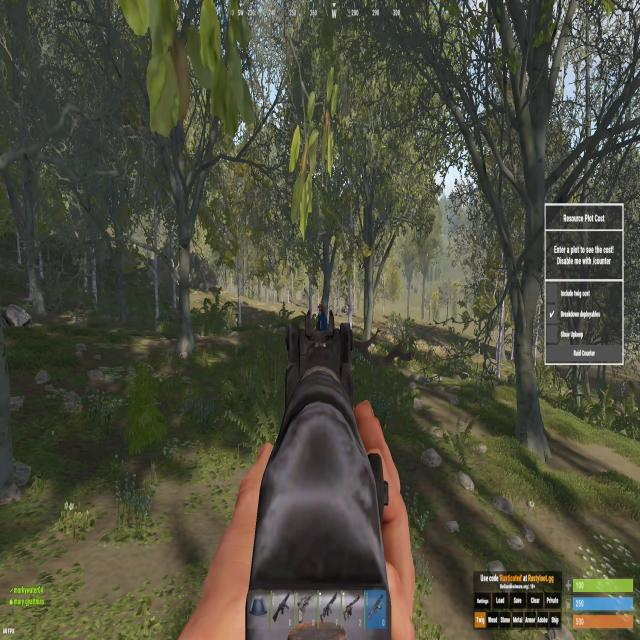Player: (314, 304, 328, 331)
